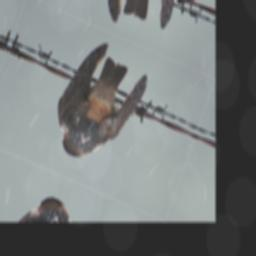Swallow: (43, 31, 156, 176)
